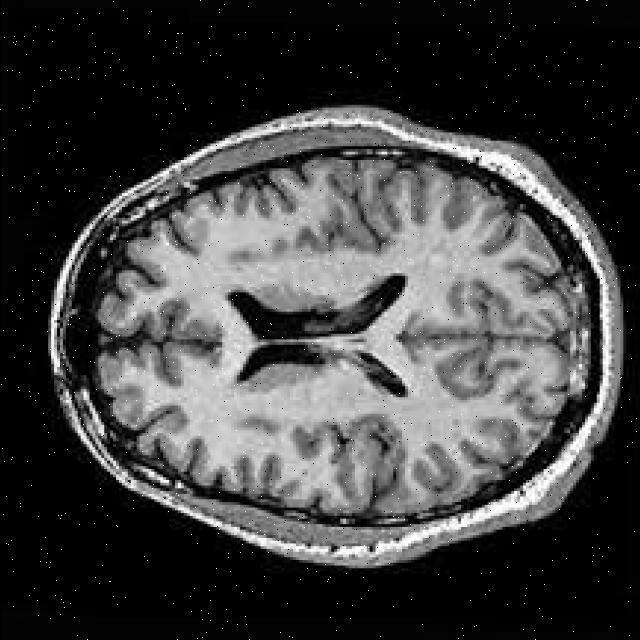No_Tumor: (49, 108, 622, 567)
